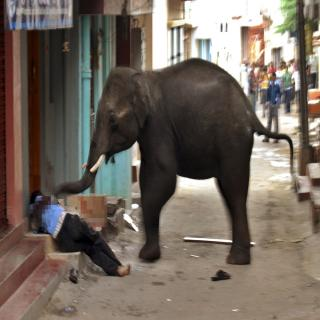Elephant: (84, 54, 302, 285)
